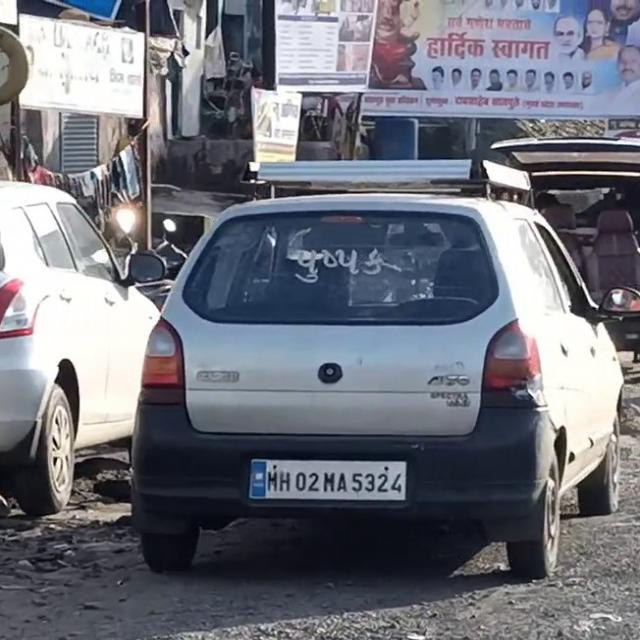license-plate: (248, 456, 406, 498)
